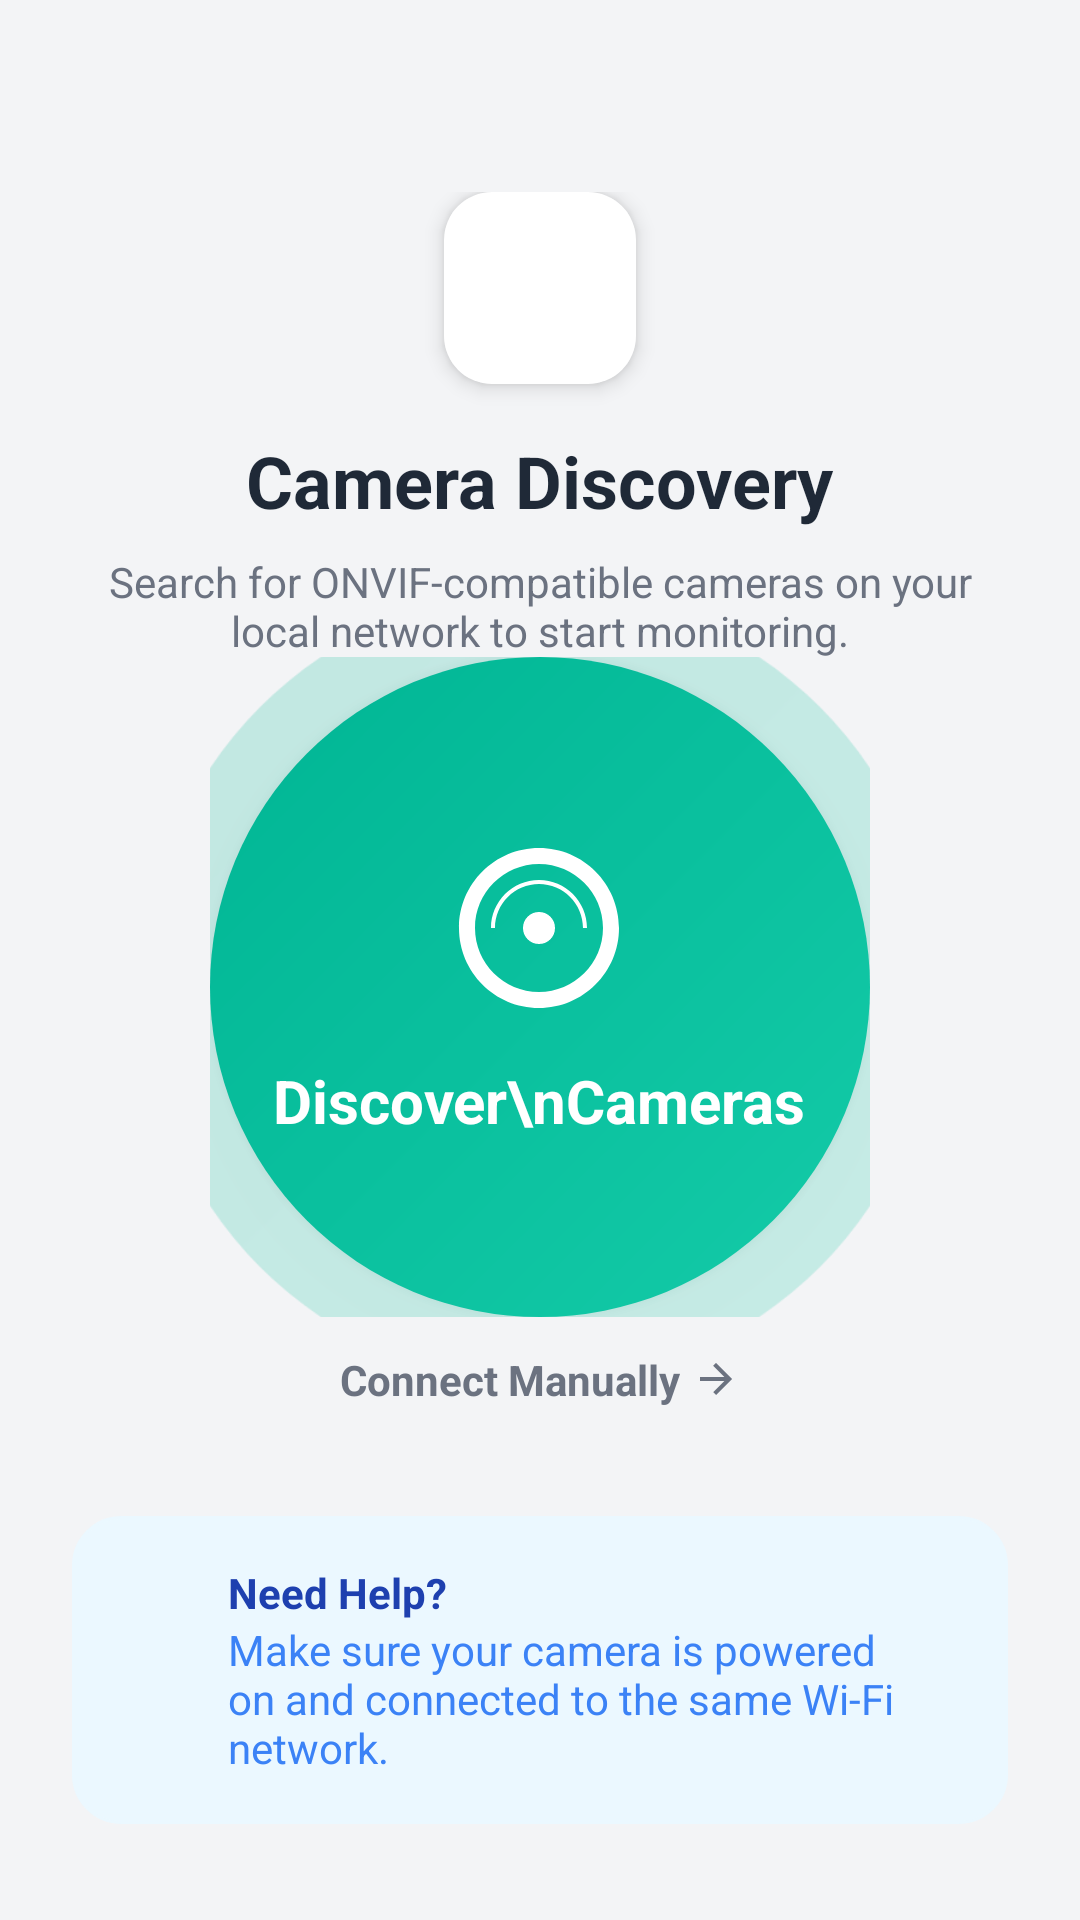

Locate icon controls on the screen. Image size 1080x1920, boxes as bbox(x1, y1, x2, y2).
arrow forward: bbox(700, 1363, 732, 1395)
